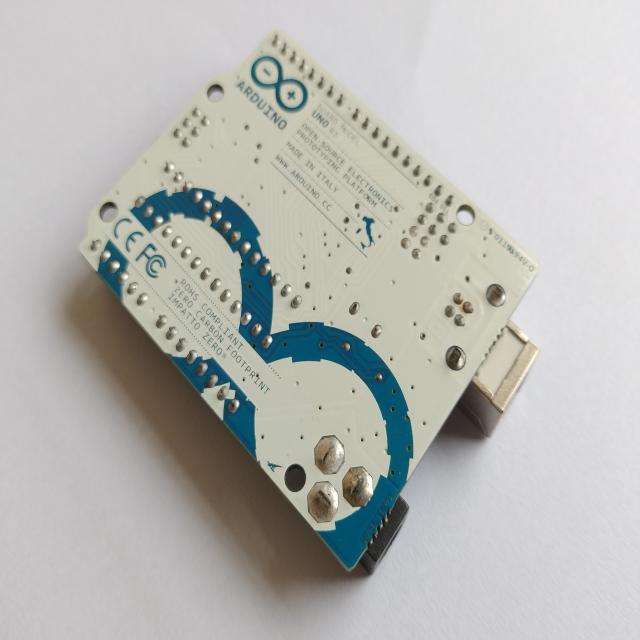arduino: (78, 28, 552, 586)
